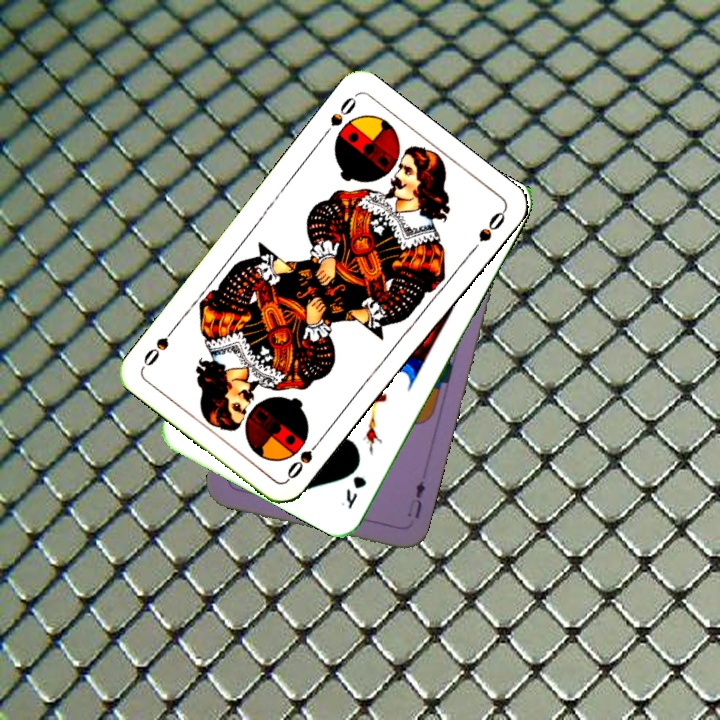EU: (410, 476, 428, 522)
GK: (341, 471, 369, 511)
SO: (283, 433, 326, 483), (317, 91, 359, 141)
